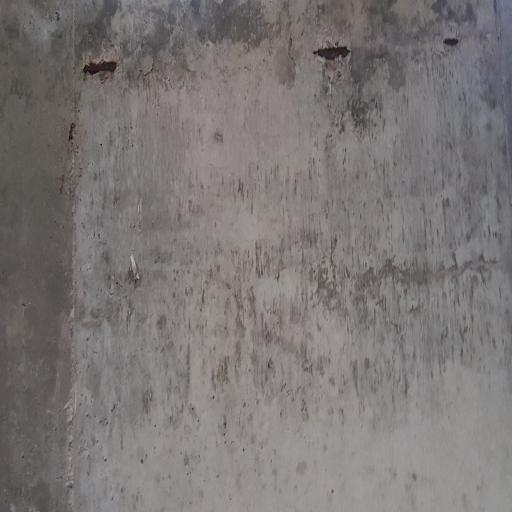exposed_rebar: (313, 46, 350, 60), (83, 60, 117, 75), (443, 37, 458, 46), (69, 123, 75, 140)
